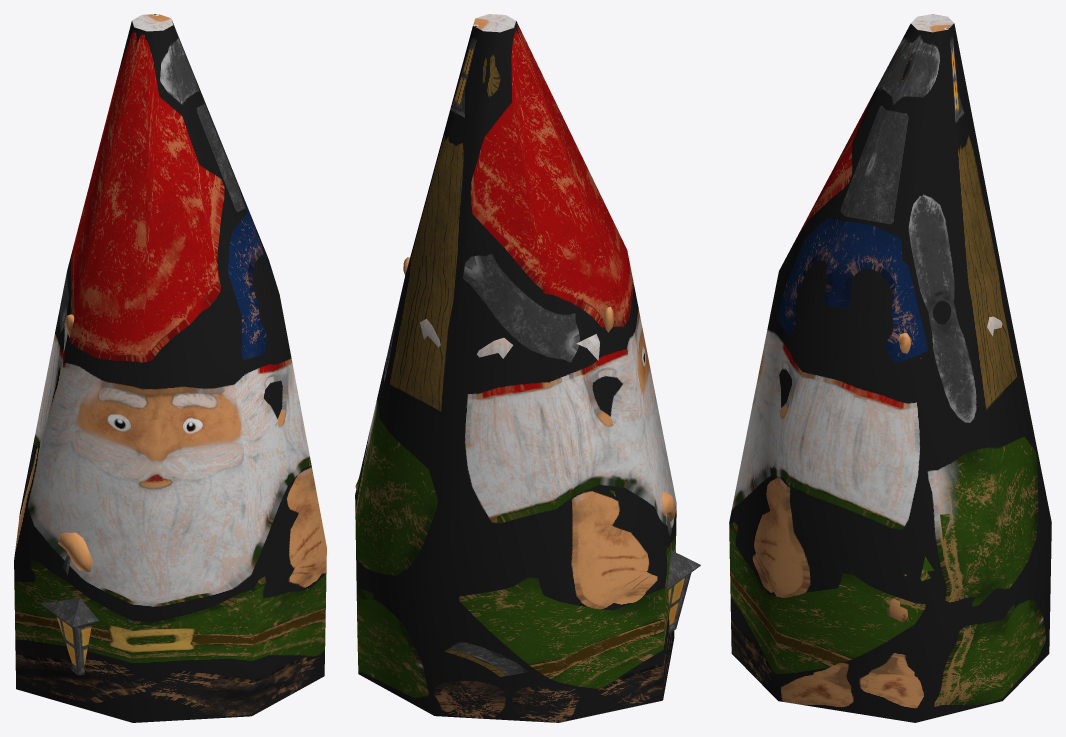
The model's file is garden_gnome_D.FBX.
The picture shows the model from 3 angles, left to right: view 1: azimuth 30°, elevation 25°; view 2: azimuth 150°, elevation 25°; view 3: azimuth 270°, elevation 25°; orthographic projection. The views are drawn at different scales.
Visible parts, largest first — view 1: garden_gnome_D_COL, garden_gnome_B_LOD0; view 2: garden_gnome_D_COL, garden_gnome_B_LOD0; view 3: garden_gnome_D_COL, garden_gnome_B_LOD0.
Part boxes in pixels (<box>): garden_gnome_D_COL: <box>14,14,326,722</box>; garden_gnome_B_LOD0: <box>34,314,99,675</box>; garden_gnome_D_COL: <box>355,14,676,722</box>; garden_gnome_B_LOD0: <box>355,257,700,633</box>; garden_gnome_D_COL: <box>729,14,1051,722</box>; garden_gnome_B_LOD0: <box>888,316,1002,622</box>.
Size of what is drawn, in the model's own units: 24.19 by 49.62 by 22.73.
